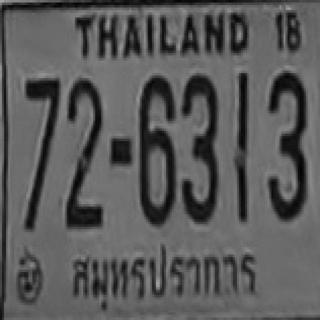N02: (63, 106, 101, 224), (66, 77, 102, 200)
N03: (265, 71, 306, 219), (180, 76, 217, 222), (265, 87, 306, 218)
N06: (138, 73, 174, 224)
N07: (24, 77, 59, 165)
P57: (63, 242, 262, 314)
